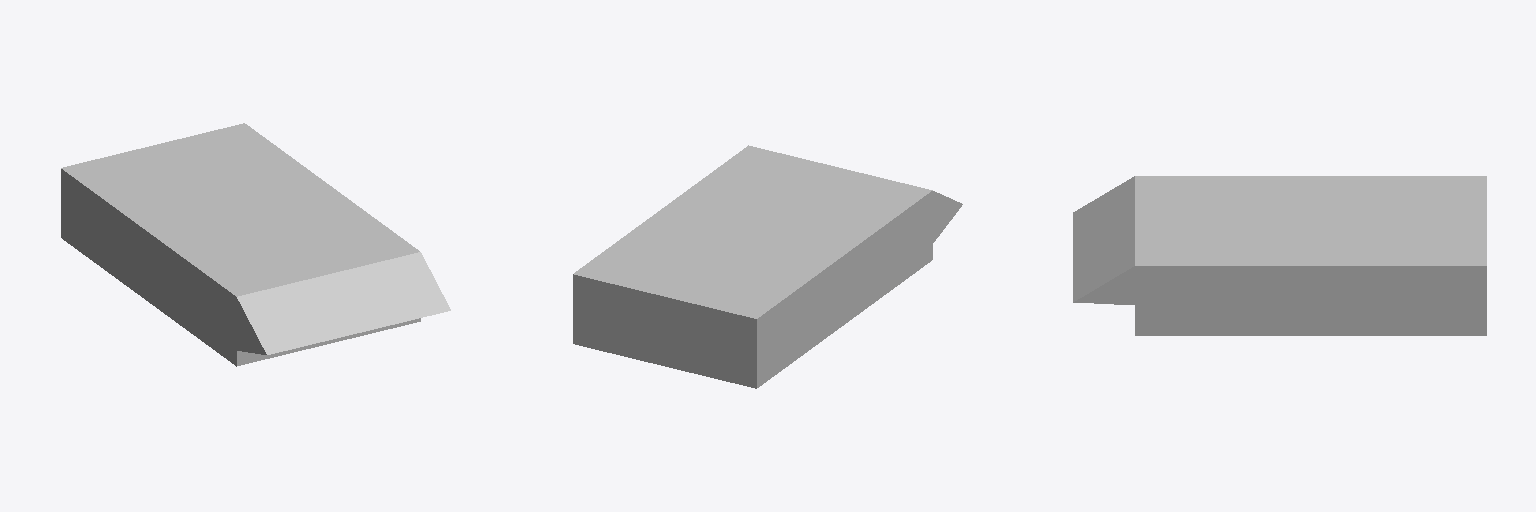
Rendered from obsticale.obj.
3 views of the same model, side by side, from view 1: azimuth 30°, elevation 25°; view 2: azimuth 150°, elevation 25°; view 3: azimuth 270°, elevation 25° (orthographic).
Visible parts, largest first — view 1: Cube.000_Cube.005; view 2: Cube.000_Cube.005; view 3: Cube.000_Cube.005.
Boxes of the visible parts, <box> form: Cube.000_Cube.005: <box>61,123,450,366</box>; Cube.000_Cube.005: <box>573,145,962,388</box>; Cube.000_Cube.005: <box>1073,176,1486,335</box>.
Size of the model in its own units: 1.48 by 0.5365 by 2.88.